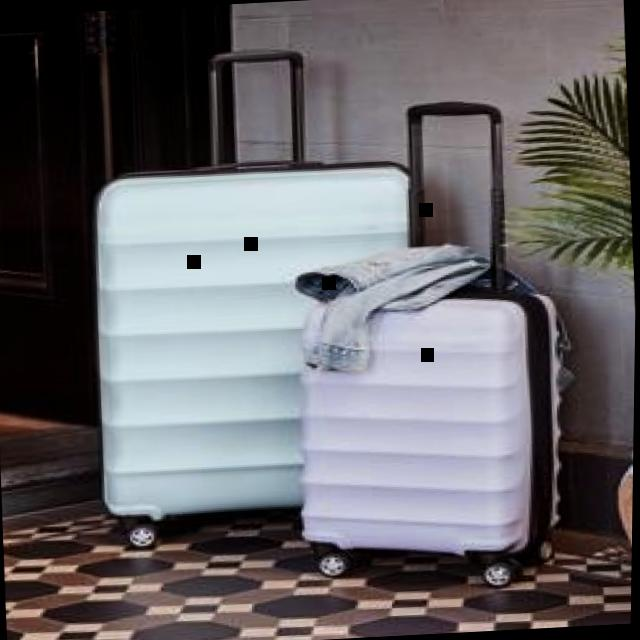luggage: (75, 147, 448, 534), (280, 275, 580, 589)
